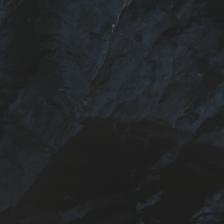landslides: (83, 95, 103, 105)
